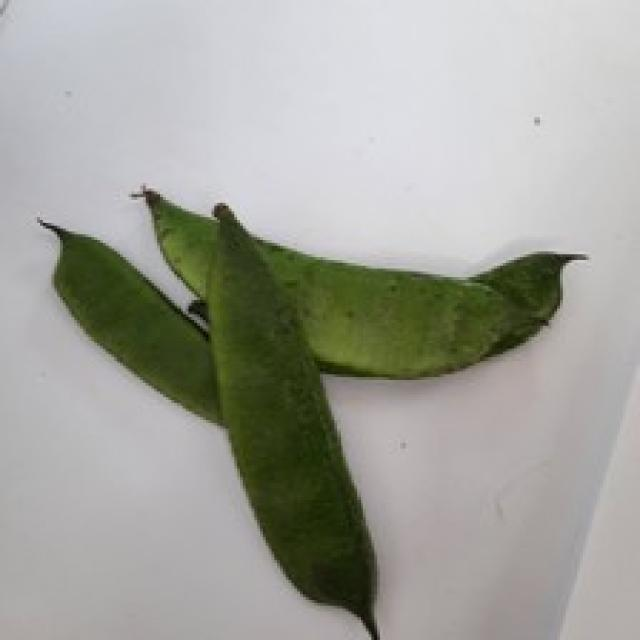Bean: (128, 183, 588, 380), (203, 197, 383, 637)
